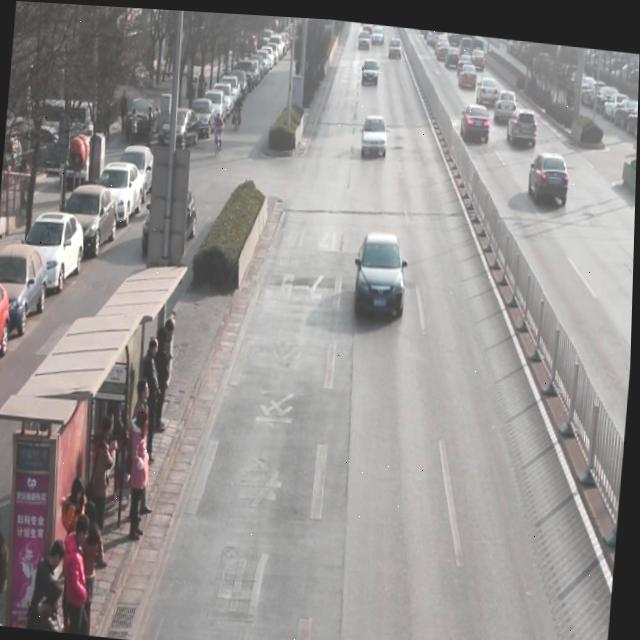car: (354, 224, 411, 322), (141, 177, 200, 257), (527, 141, 572, 204), (460, 96, 493, 139), (362, 109, 390, 157), (508, 102, 540, 140), (494, 84, 518, 117), (476, 71, 500, 101), (361, 54, 379, 84), (460, 59, 479, 83), (471, 39, 487, 63), (388, 31, 404, 55), (357, 25, 372, 48), (371, 20, 385, 42), (458, 46, 473, 66)
